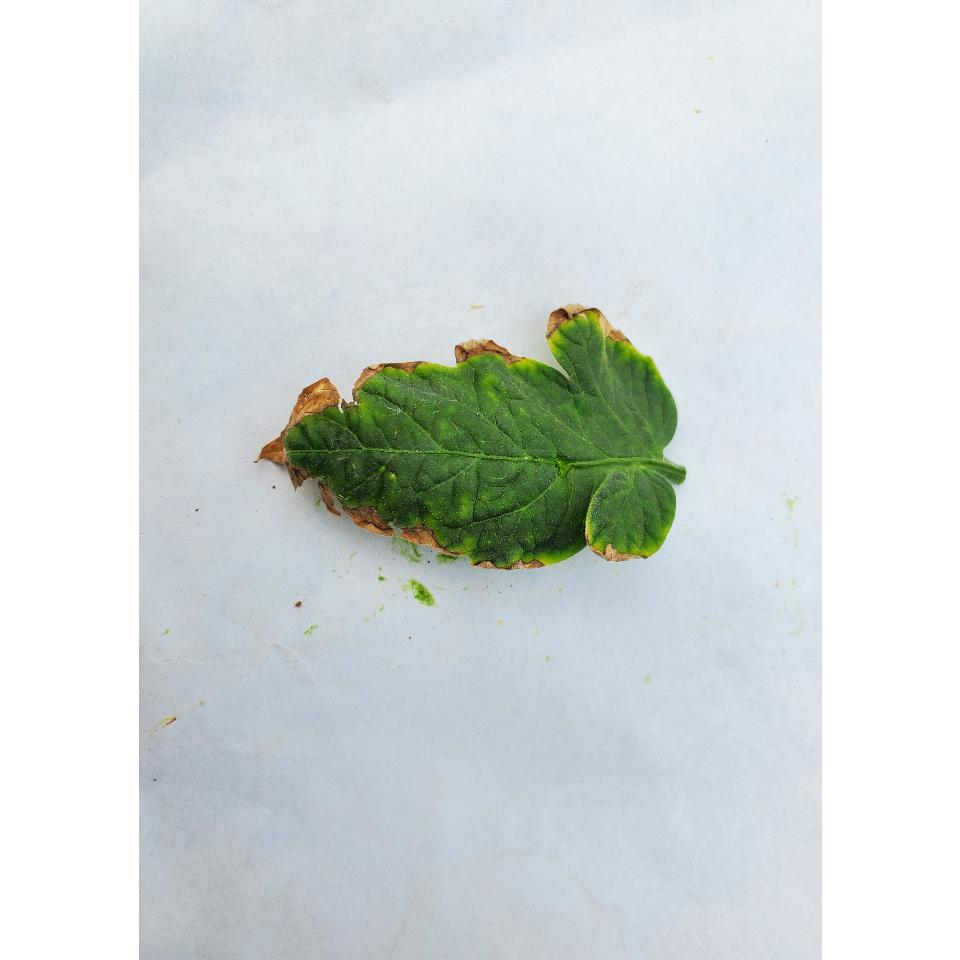tomato_bacterial_blight: (261, 323, 691, 569)
